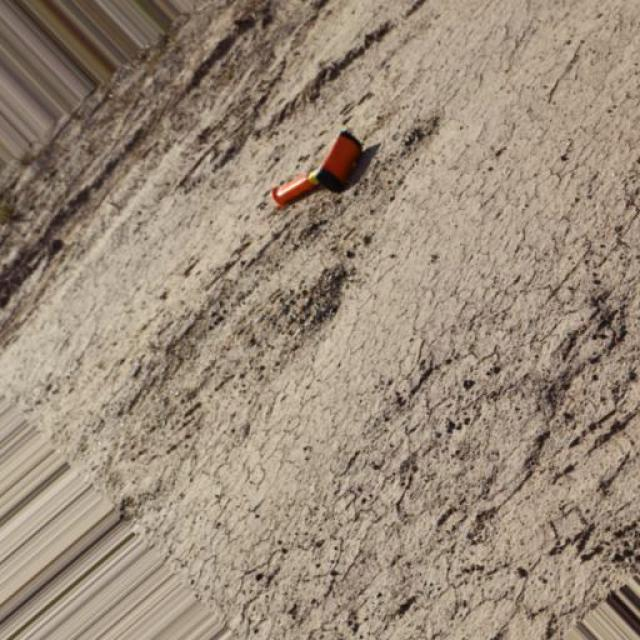mallet: (271, 128, 365, 208)
